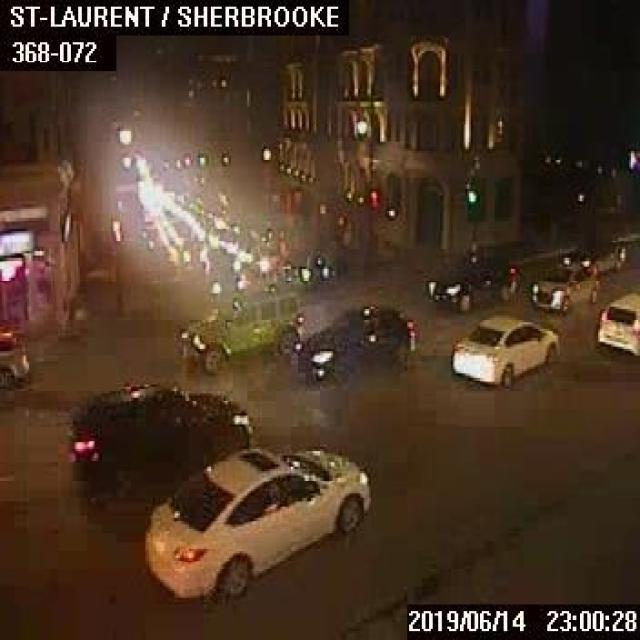vehicle: (144, 446, 371, 596), (68, 379, 251, 488), (175, 291, 301, 373), (295, 300, 414, 384), (449, 314, 556, 382), (425, 256, 520, 310), (527, 258, 597, 311), (595, 291, 638, 354), (558, 234, 624, 272), (202, 257, 248, 301), (280, 247, 333, 284), (0, 326, 29, 386), (180, 237, 207, 265)
